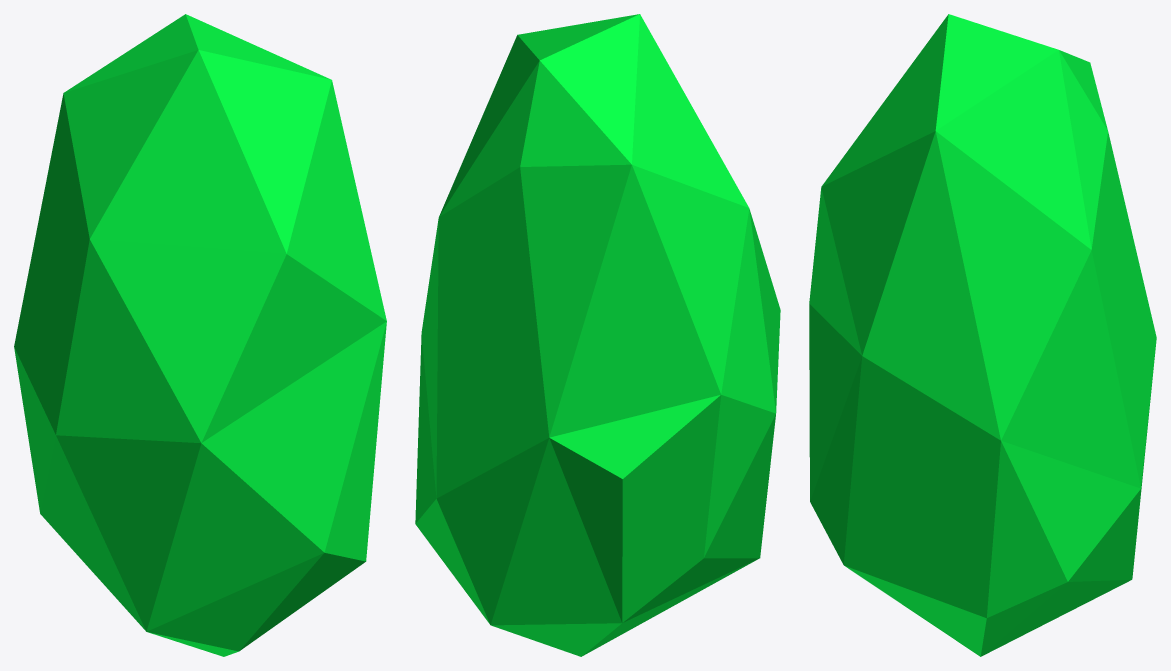
File: Crystal_021.fbx
3 renders of one model, left to right at view 1: azimuth 30°, elevation 25°; view 2: azimuth 150°, elevation 25°; view 3: azimuth 270°, elevation 25°, orthographic. The views are drawn at different scales.
Visible parts, largest first — view 1: Crystal.021; view 2: Crystal.021; view 3: Crystal.021.
Part boxes in pixels (x1,y1,x2,y2): Crystal.021: (14, 14, 386, 656); Crystal.021: (415, 14, 780, 656); Crystal.021: (809, 14, 1156, 656).
Bounding box in the file's own units: 176 × 325 × 164.
